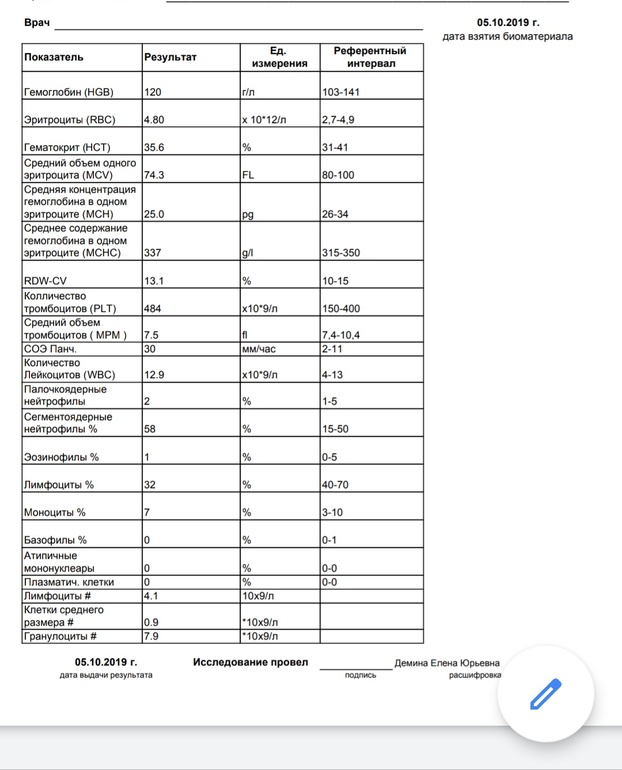column: (23, 43, 136, 643), (321, 43, 407, 643), (241, 43, 308, 643), (144, 43, 197, 643)
